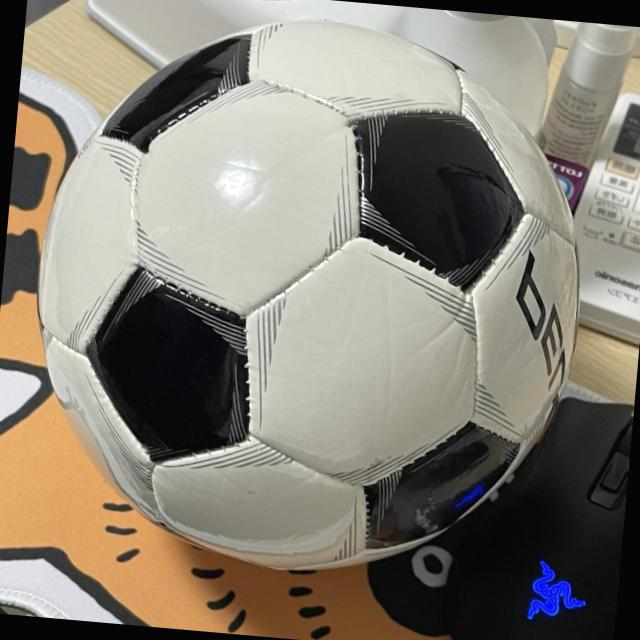Soccer Ball: (9, 0, 606, 595)
